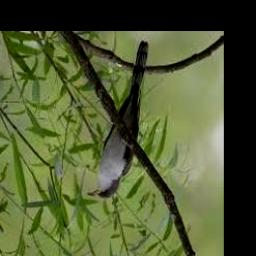Cuckoo: (88, 43, 149, 199)
